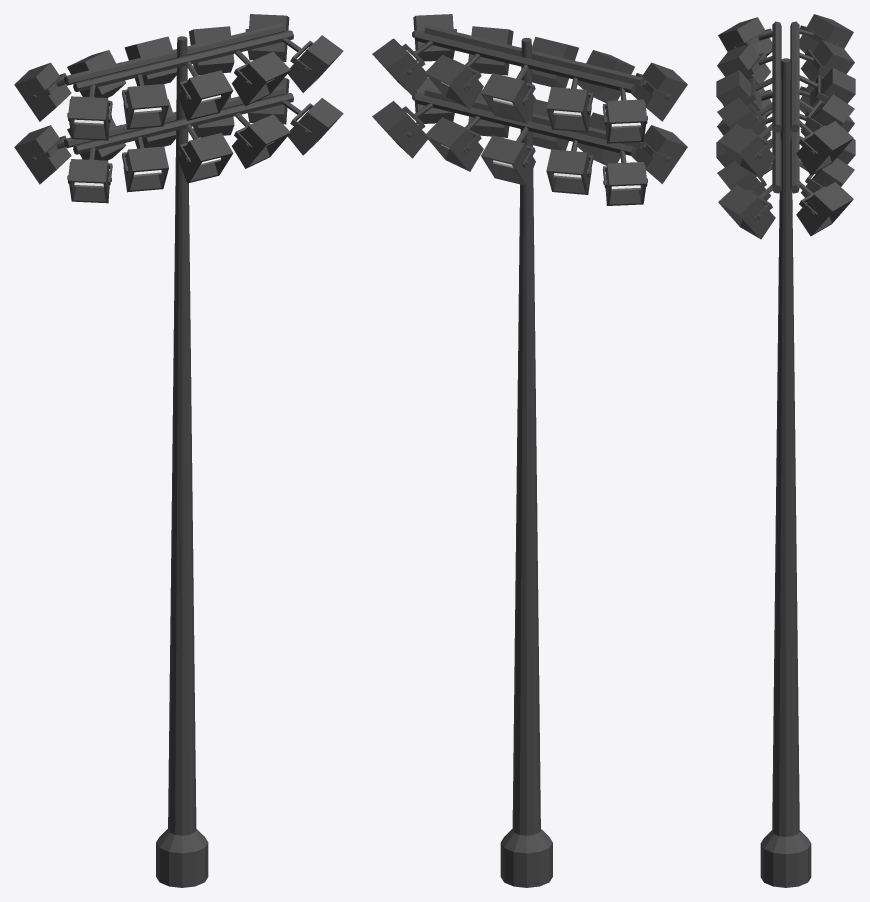
File: LP_Lamp_01.fbx
The picture shows the model from 3 angles, left to right: view 1: azimuth 30°, elevation 25°; view 2: azimuth 150°, elevation 25°; view 3: azimuth 270°, elevation 25°; orthographic projection. The views are drawn at different scales.
Parts seen in each view (by area): view 1: LP_Lamp_01; view 2: LP_Lamp_01; view 3: LP_Lamp_01.
Boxes of the visible parts, x1,y1,x2,y2 form: LP_Lamp_01: [14, 14, 343, 887]; LP_Lamp_01: [372, 14, 687, 887]; LP_Lamp_01: [716, 14, 855, 887].
Bounding box in the file's own units: 6.41 × 18.23 × 2.82.
